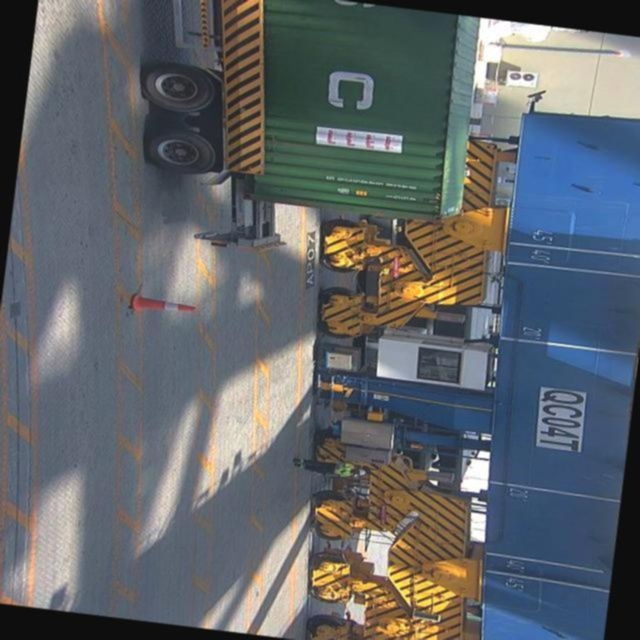Dent: (264, 132, 281, 166)
